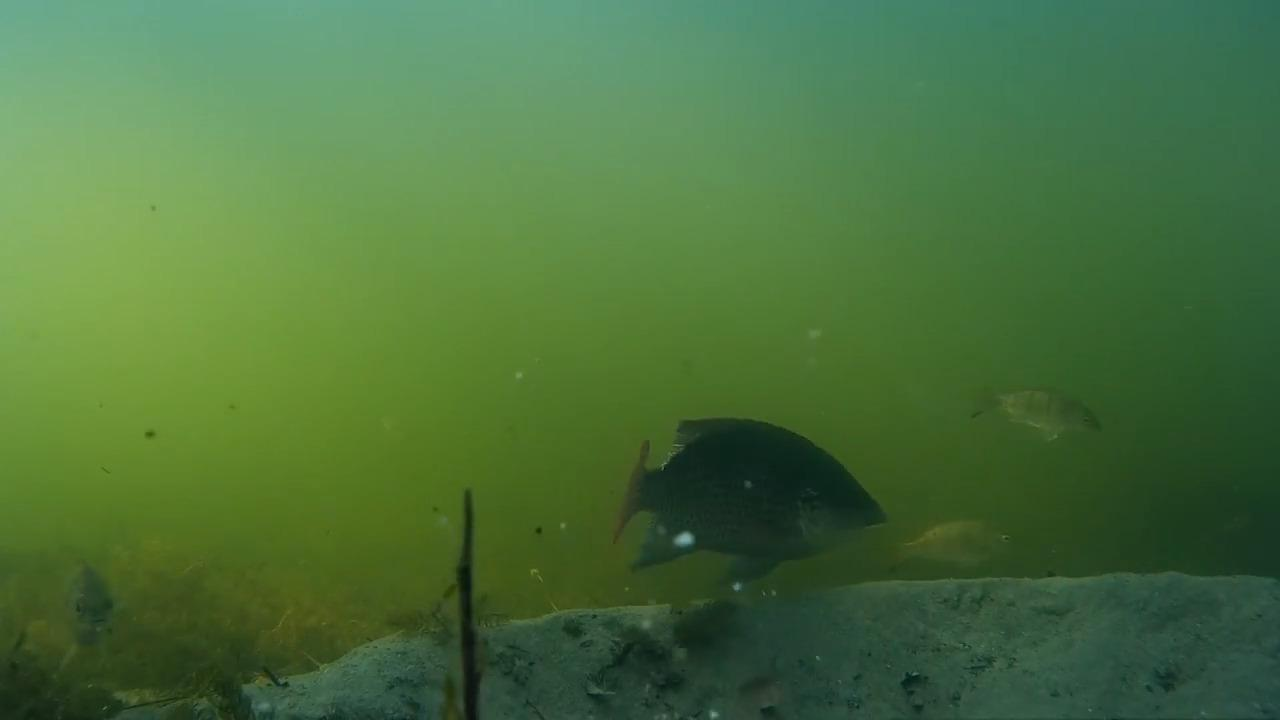Tilapia: (601, 402, 892, 572), (976, 372, 1111, 442), (55, 560, 129, 664), (908, 524, 1035, 584)
